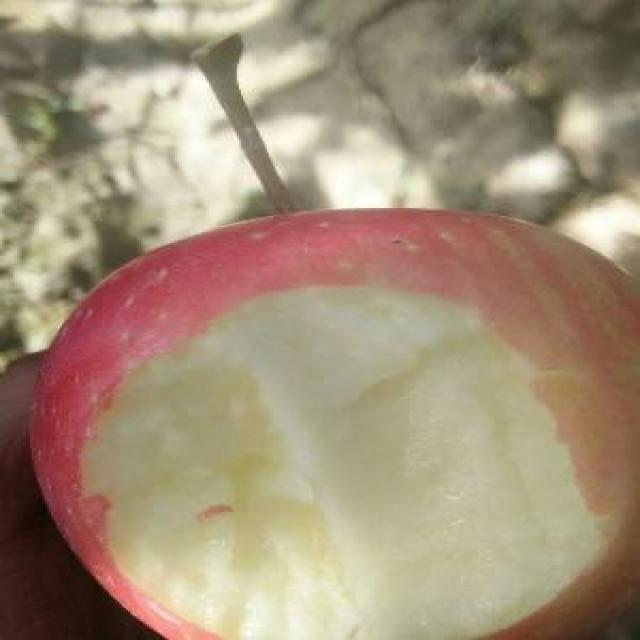Rotten: (35, 217, 640, 640)
